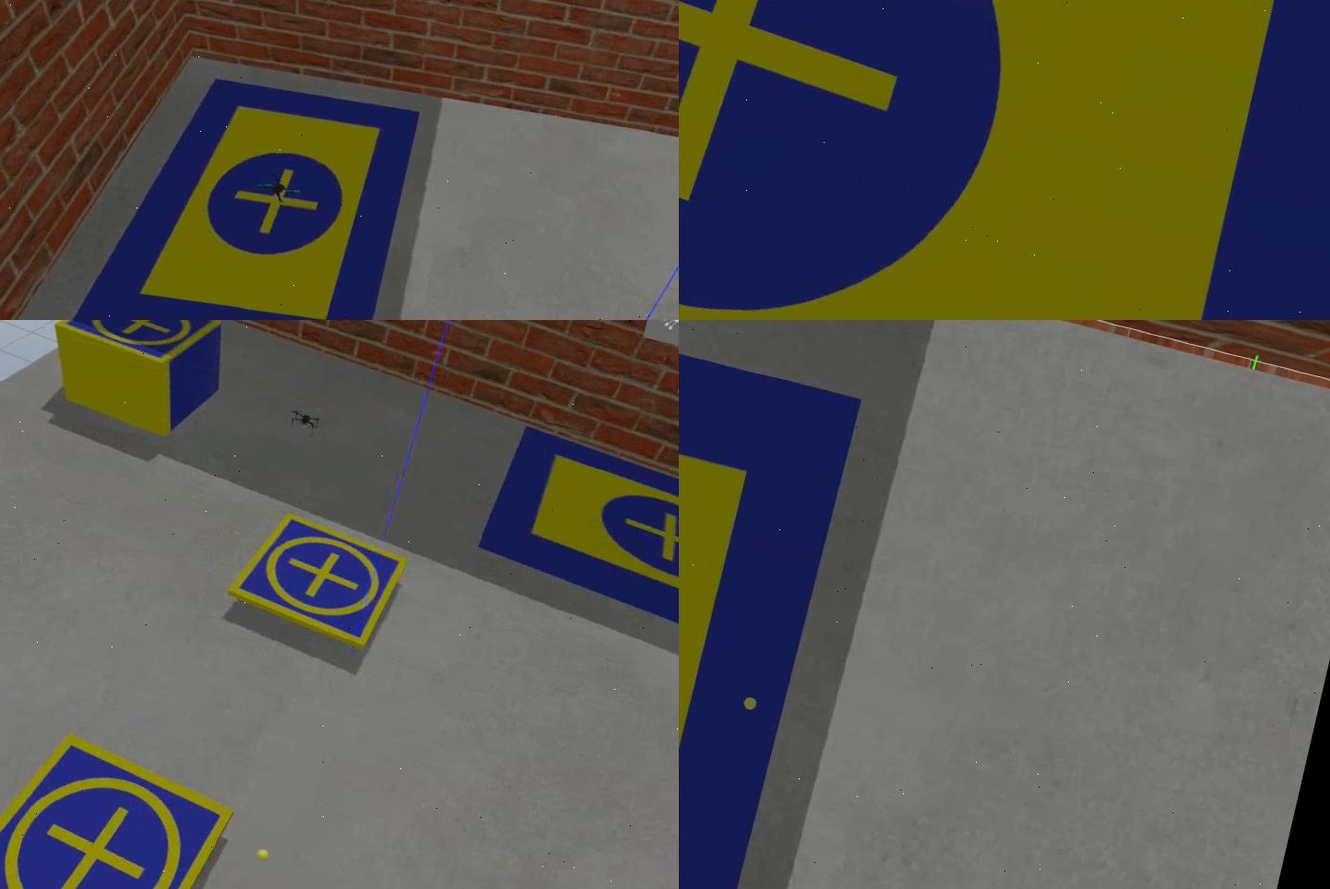large_base: (678, 1, 1328, 321), (678, 321, 866, 889), (63, 41, 423, 321), (460, 421, 678, 692)
small_base: (0, 713, 235, 889), (220, 504, 411, 653), (51, 321, 223, 378)
